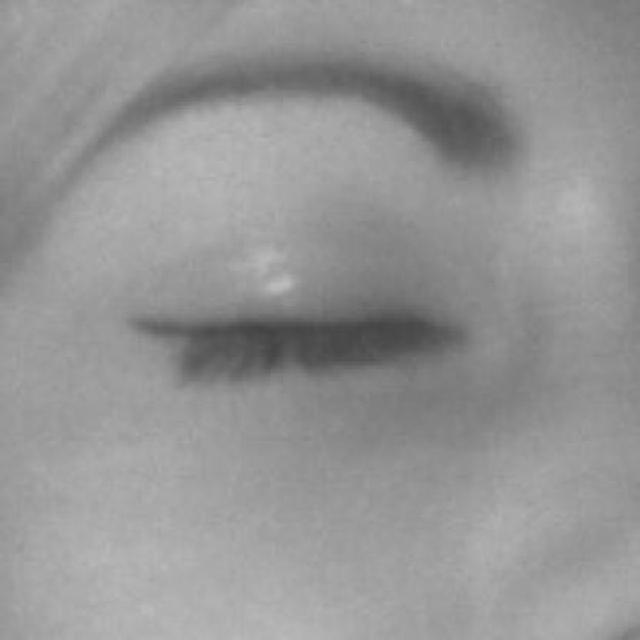drowsy: (108, 190, 469, 476)
